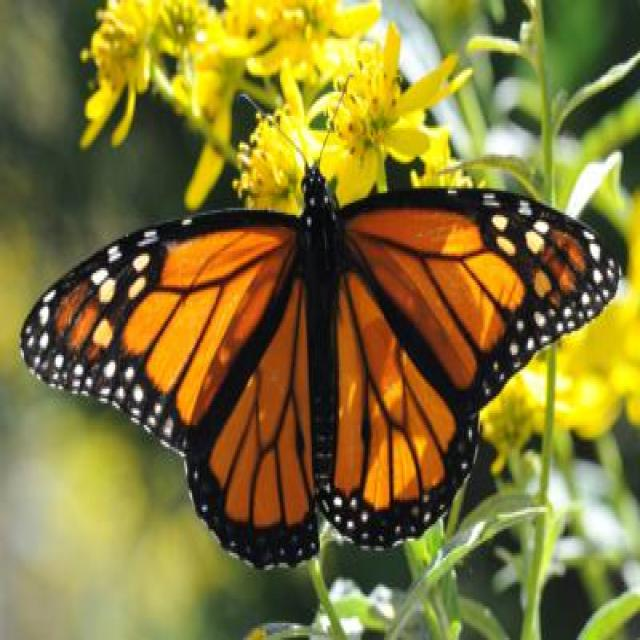antennae: (238, 78, 364, 183)
body: (299, 163, 344, 496)
insect: (19, 77, 620, 569)
wings: (22, 211, 319, 567), (322, 190, 620, 544)
